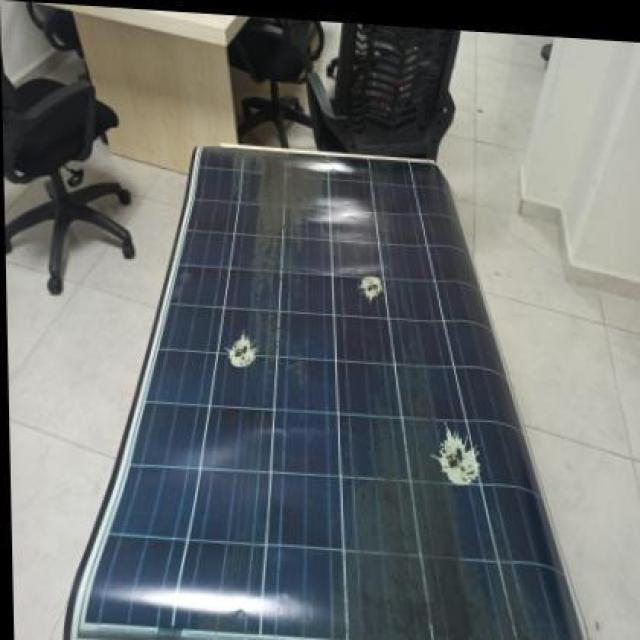soiled: (84, 145, 588, 637)
